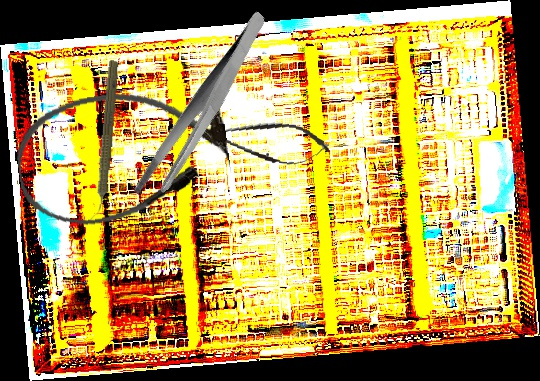Cannula: (10, 79, 236, 234)
Dressing Forceps: (99, 10, 307, 207)
Handpiece: (88, 59, 122, 223)
Micro Scissor: (193, 110, 333, 172)
